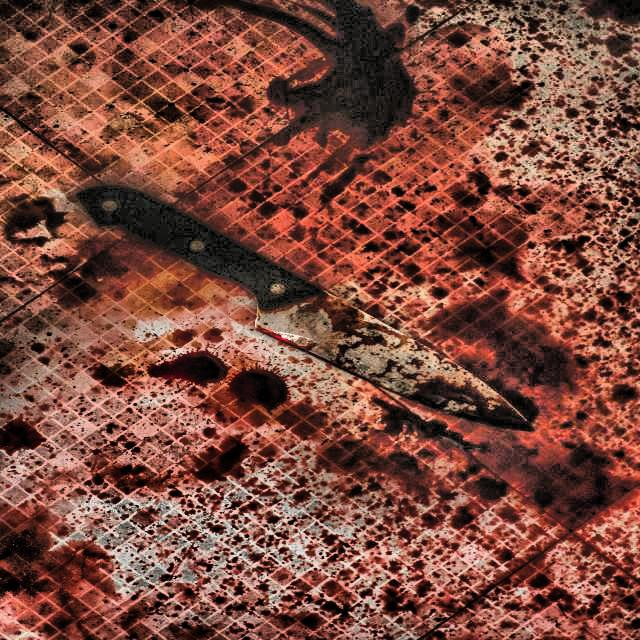knife: (71, 178, 523, 440)
